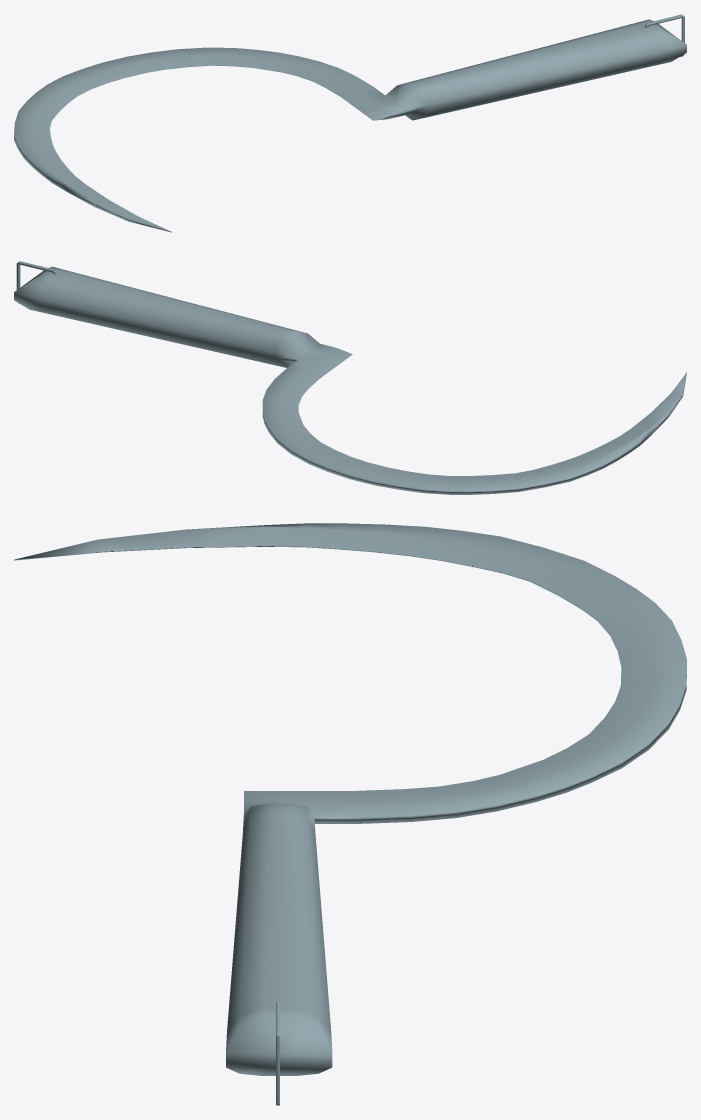
Rendered from faucille_L.fbx.
The picture shows the model from 3 angles, top to bottom: view 1: azimuth 30°, elevation 25°; view 2: azimuth 150°, elevation 25°; view 3: azimuth 270°, elevation 25°; orthographic projection. The views are drawn at different scales.
Parts seen in each view (by area): view 1: standardCube16; view 2: standardCube16; view 3: standardCube16.
Boxes of the visible parts, box(x1,y1,x2,y2) form: standardCube16: box(14, 14, 686, 232); standardCube16: box(14, 261, 686, 494); standardCube16: box(14, 523, 686, 1105).
Bounding box in the file's own units: 41.75 × 2.63 × 21.88.
